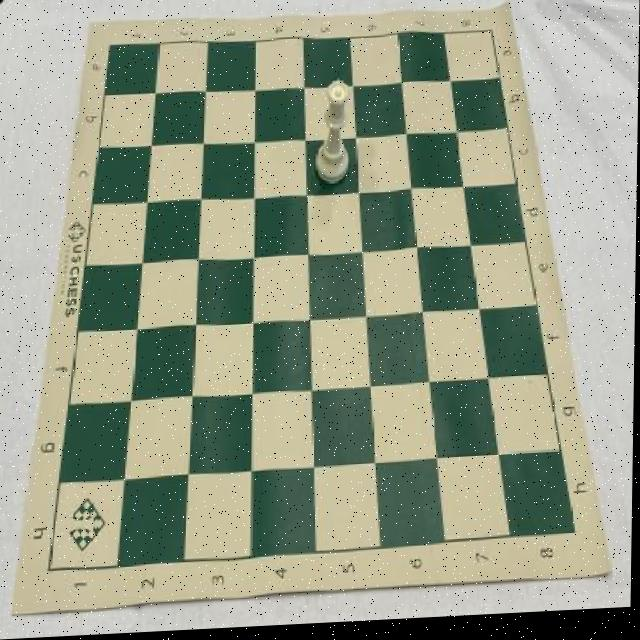white-pawn: (316, 84, 352, 190)
